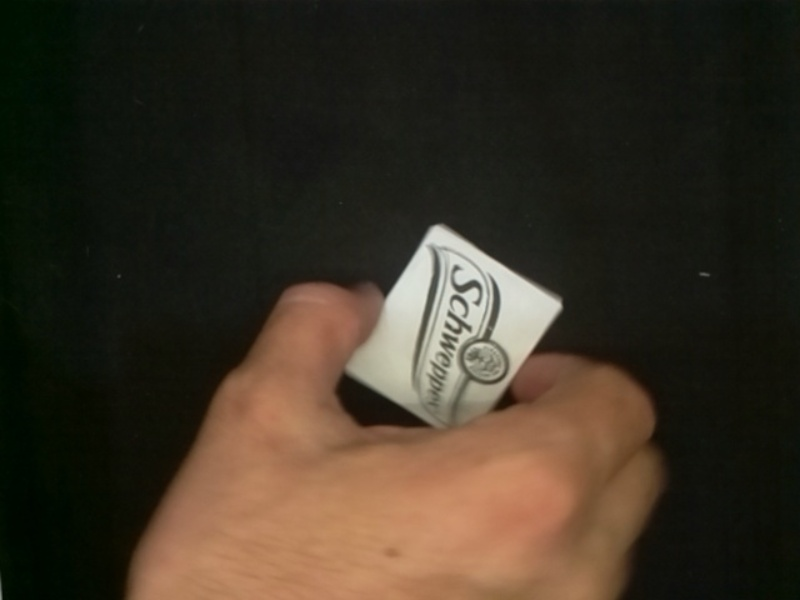schweppes: (344, 226, 545, 429)
